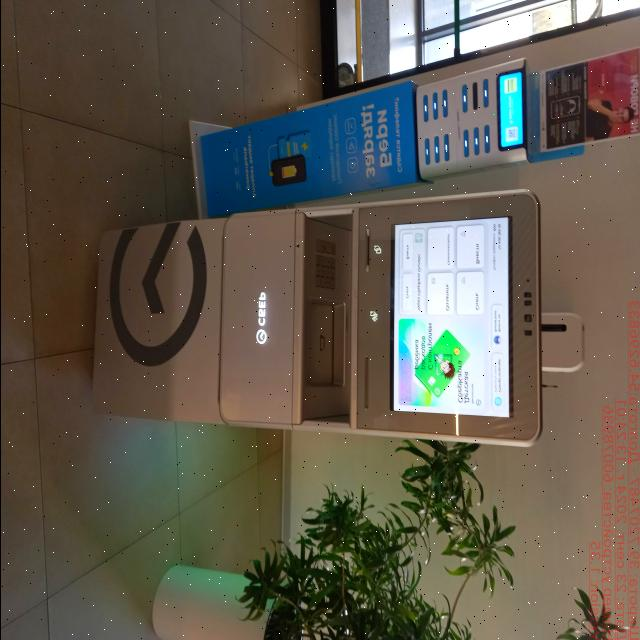bank: (87, 184, 542, 448)
